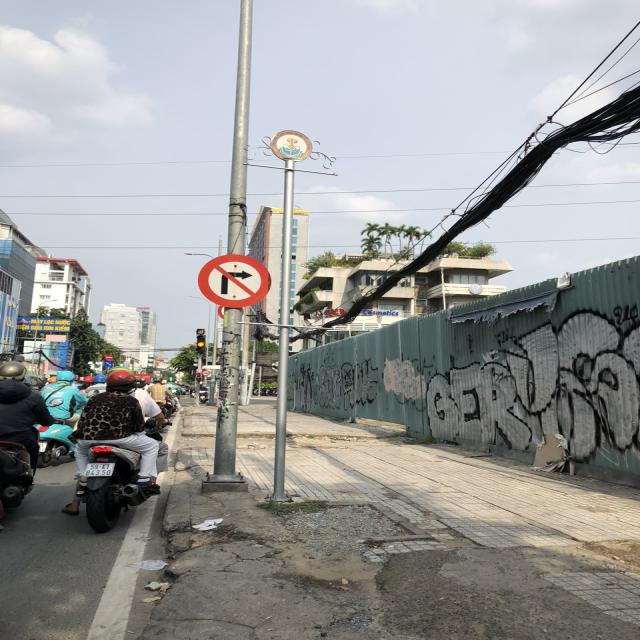Bien bao cam re phai: (189, 248, 276, 308)
